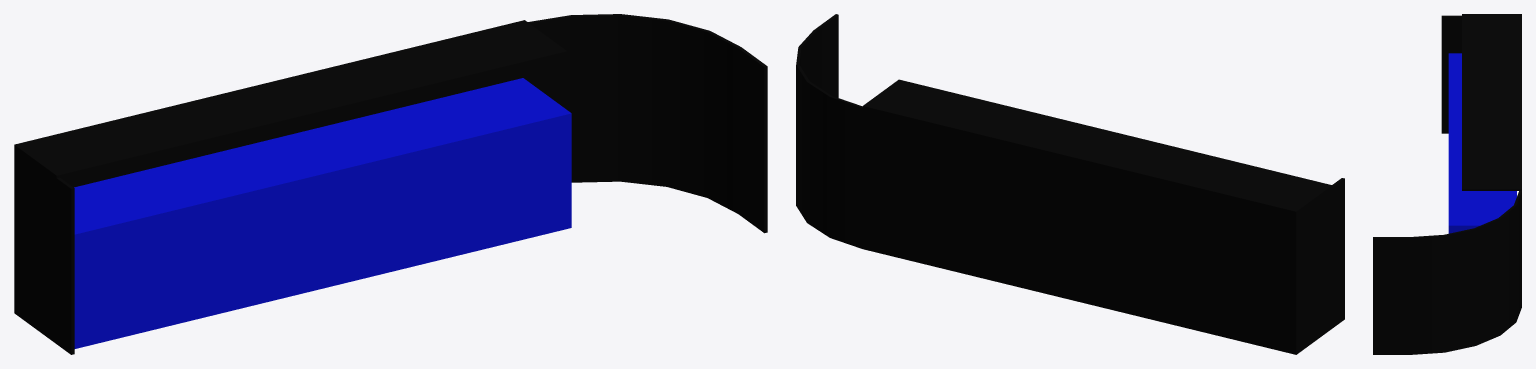
Rendered from reception_desk.fbx.
The picture shows the model from 3 angles, left to right: view 1: azimuth 30°, elevation 25°; view 2: azimuth 150°, elevation 25°; view 3: azimuth 270°, elevation 25°; orthographic projection. The views are drawn at different scales.
Visible parts, largest first — view 1: reception_desk; view 2: reception_desk; view 3: reception_desk.
Boxes of the visible parts, box(x1,y1,x2,y2) form: reception_desk: box(14, 14, 767, 354); reception_desk: box(796, 14, 1344, 354); reception_desk: box(1373, 14, 1521, 354).
Size of the model in its own units: 5.31 by 1.32 by 1.5.
